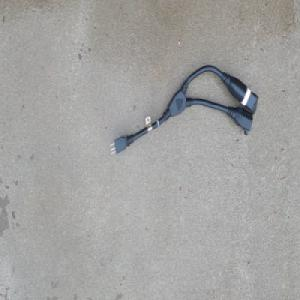Wire: (107, 63, 259, 157)
